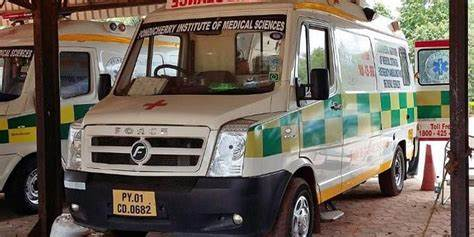ambulance: (69, 3, 449, 224)
